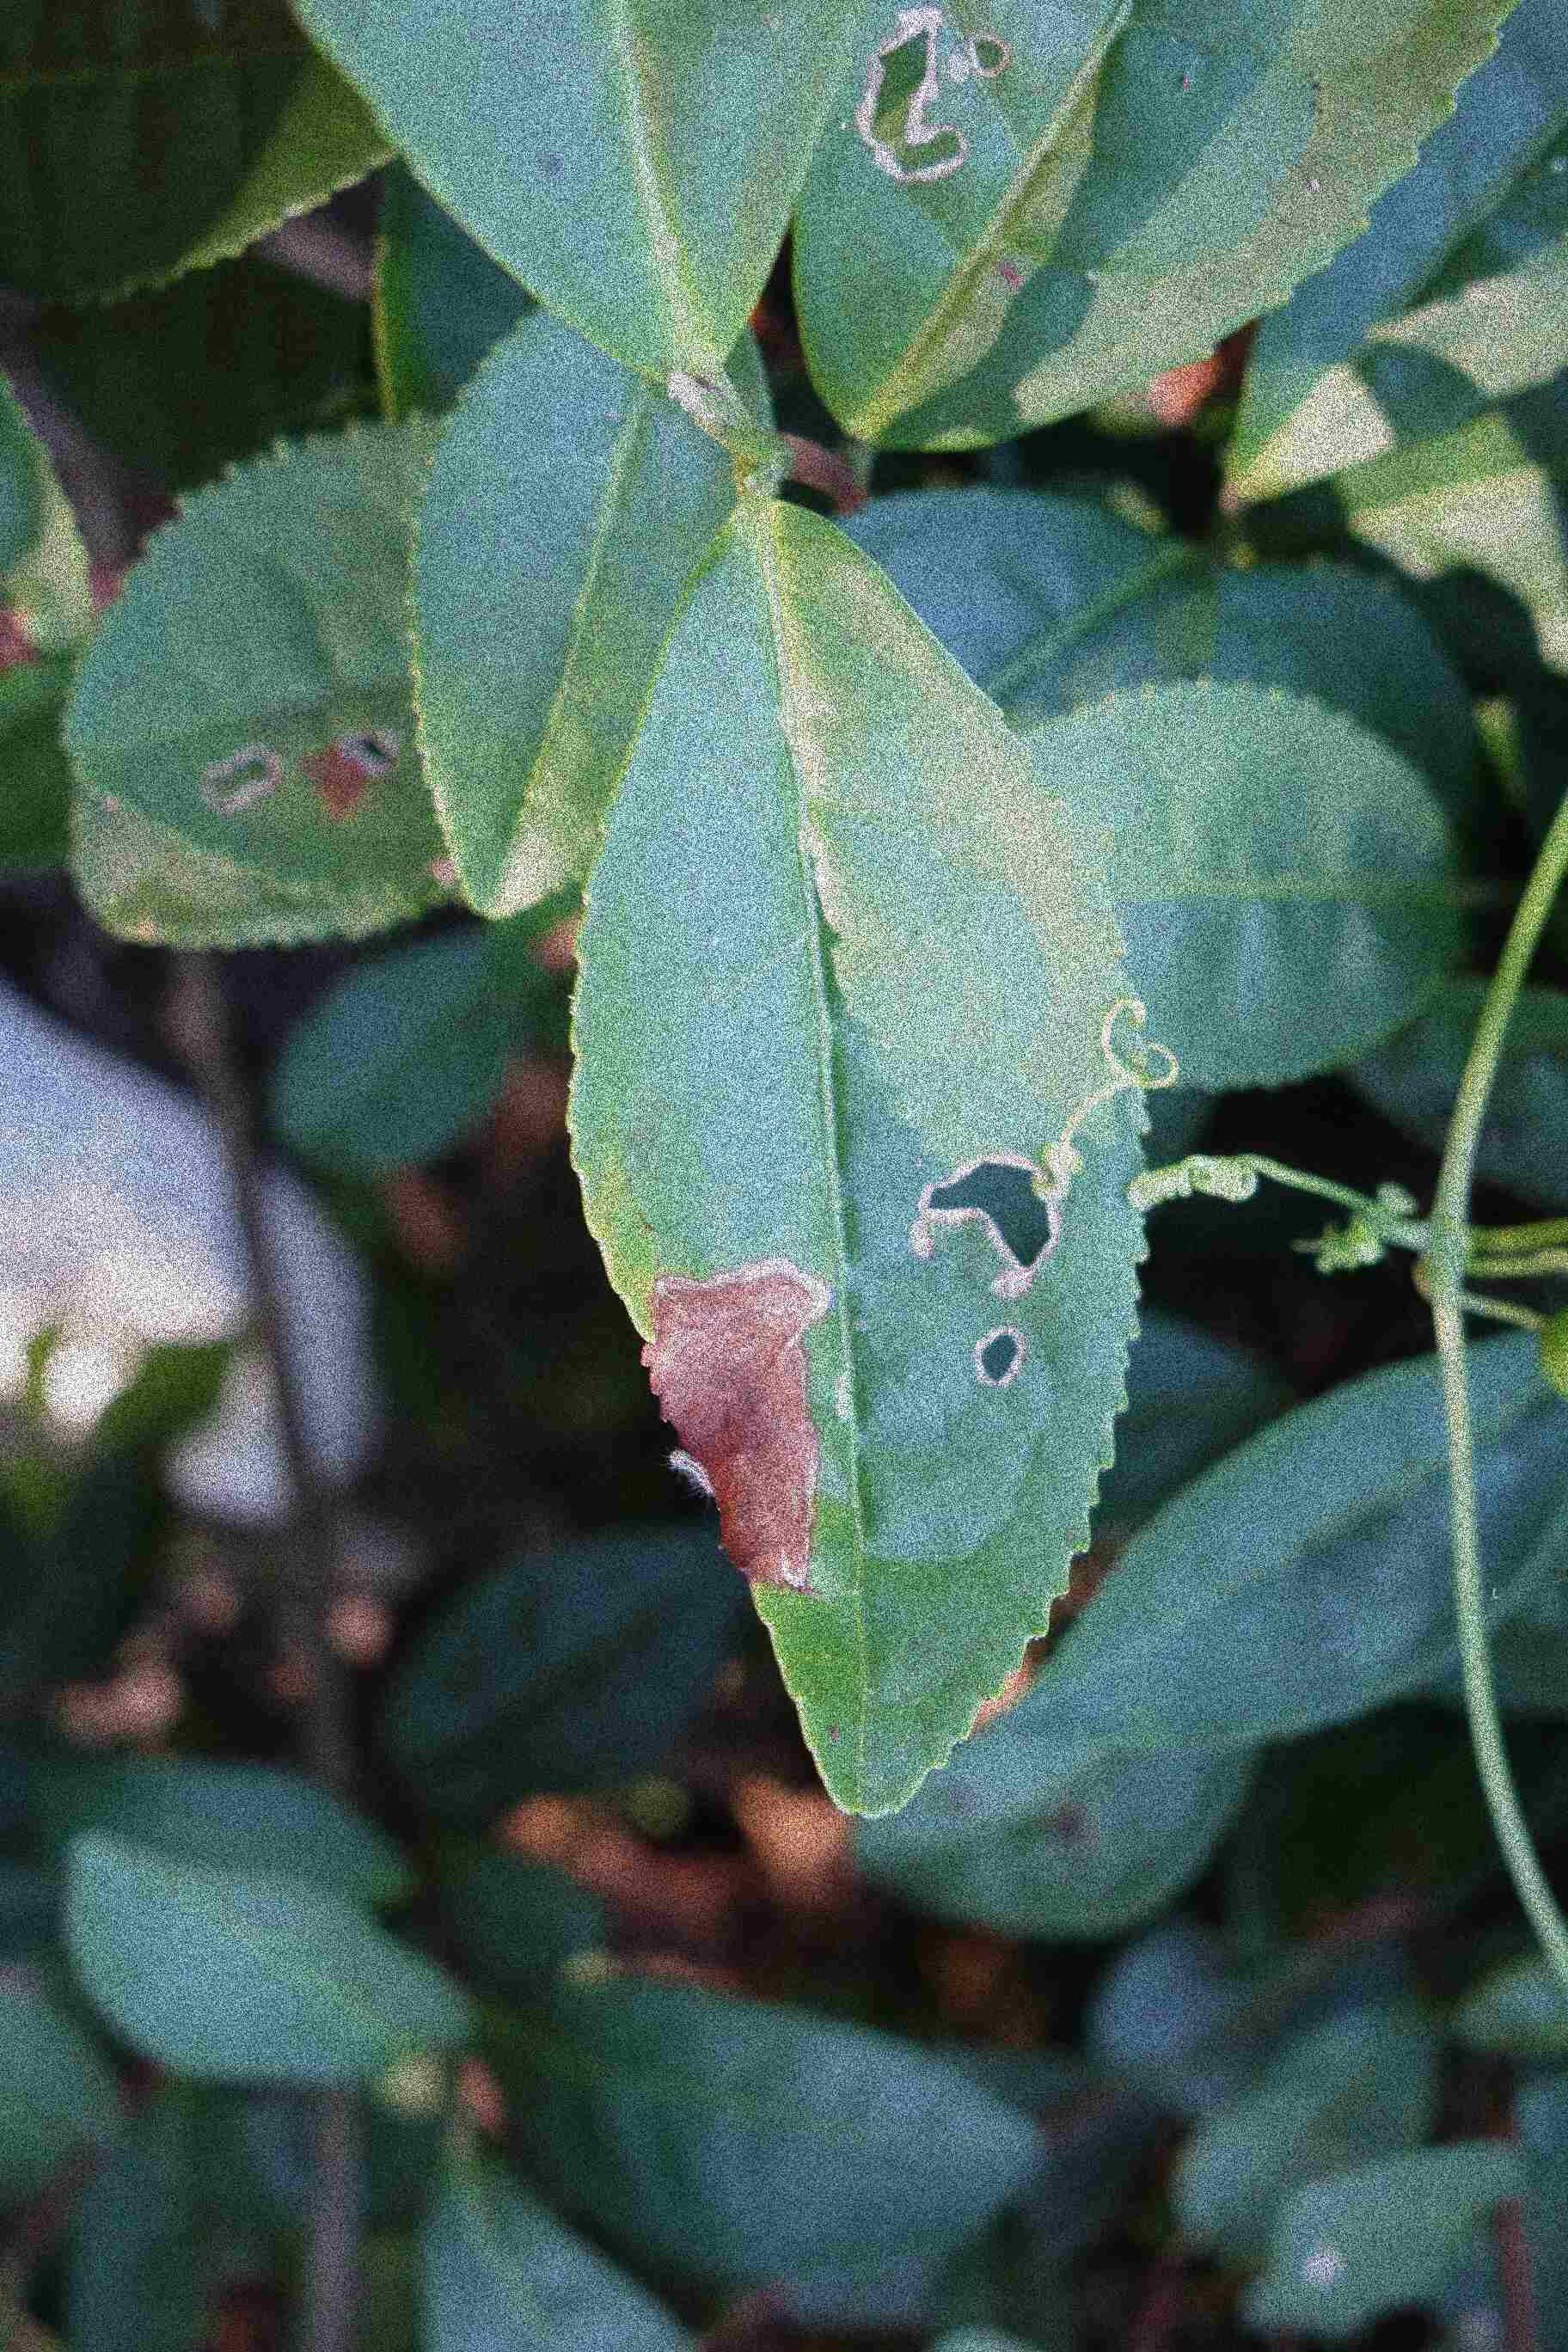chihuo_high: (791, 2, 1535, 457)
tanju_high: (584, 486, 1165, 1820)
